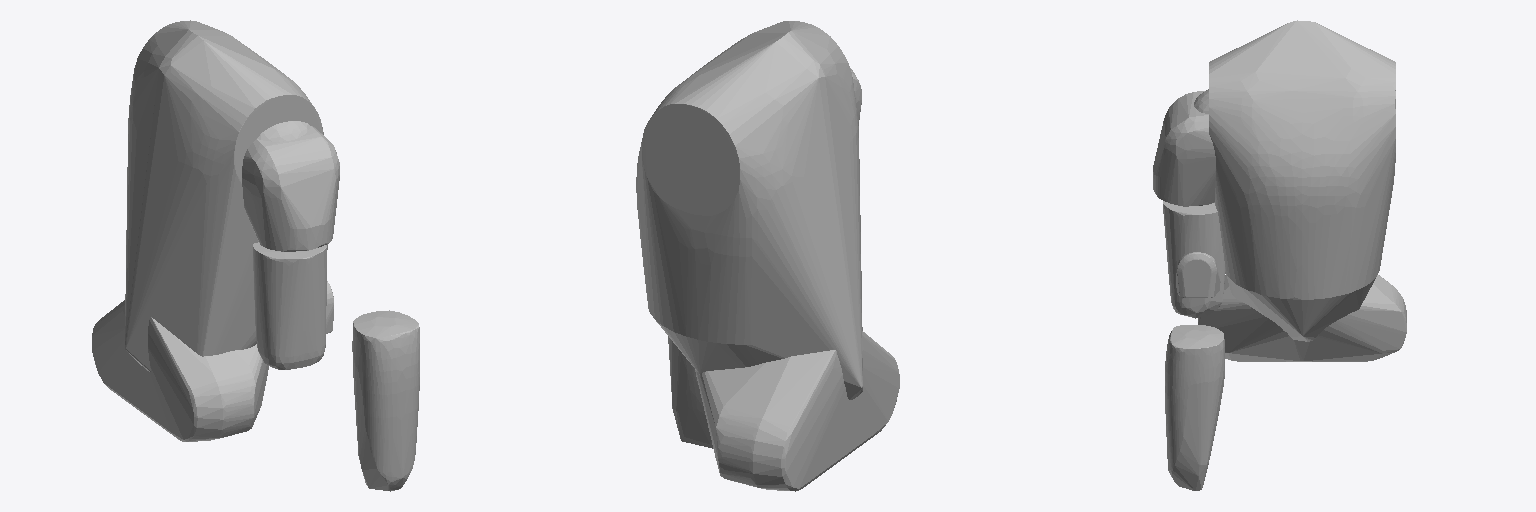
URDF robot description (z2_right_arm):
<?xml version="1.0" encoding="utf-8"?>
<!-- This URDF was automatically created by SolidWorks to URDF Exporter! Originally created by [author] ([email redacted]) 
     Commit Version: 1.6.0-4-g7f85cfe  Build Version: 1.6.7995.38578
     For more information, please see http://wiki.ros.org/sw_urdf_exporter -->
<robot
  name="z2_right_arm">
  <link
    name="pelvis">
    <inertial>
      <origin
        xyz="0.0001 0 0.0044"
        rpy="0 0 0" />
      <mass
        value="3.4083" />
      <inertia
        ixx="0.0095"
        ixy="0"
        ixz="0"
        iyy="0.0056"
        iyz="0"
        izz="0.0094" />
    </inertial>
    <visual>
      <origin
        xyz="0 0 0"
        rpy="0 0 0" />
      <geometry>
        <mesh
          filename="package://meshes/pelvis.STL" />
      </geometry>
      <material
        name="">
        <color
          rgba="0.75294 0.75294 0.75294 1" />
      </material>
    </visual>

  </link>
  <!-- ###################################################################-->  
  <!-- ###########################  waist ################################-->  
  <!-- ###################################################################-->  
  <link
    name="link_wy">
    <inertial>
      <origin
        xyz="0.0061 0.0003 0.1879"
        rpy="0 0 0" />
      <mass
        value="9.8779" />
      <inertia
        ixx="0.1556"
        ixy="0"
        ixz="-0.0015"
        iyy="0.1368"
        iyz="0"
        izz="0.0457" />
    </inertial>
    <visual>
      <origin
        xyz="0 0 0"
        rpy="0 0 0" />
      <geometry>
        <mesh
          filename="package://meshes/link_wy.STL" />
      </geometry>
      <material
        name="">
        <color
          rgba="0.75294 0.75294 0.75294 1" />
      </material>
    </visual>
  </link>
  <joint
    name="joint_wy"
    type="fixed">
    <origin
      xyz="0 0 0.0619"
      rpy="0 0 0" />
    <parent
      link="pelvis" />
    <child
      link="link_wy" />
    <axis
      xyz="0 0 1" />
    <limit
      lower="-2.79"
      upper="2.79"
      effort="120"
      velocity="20" />
  </joint>  
  <!-- ###################################################################-->  
  <!-- ###########################  r_arm ################################-->  
  <!-- ###################################################################-->  
  <link
    name="link_ra1">
    <inertial>
      <origin
        xyz="0.0032 -0.0422 -0.0117"
        rpy="0 0 0" />
      <mass
        value="0.8976" />
      <inertia
        ixx="0.001"
        ixy="0"
        ixz="0"
        iyy="0.0007"
        iyz="-0.0001"
        izz="0.0009" />
    </inertial>
    <visual>
      <origin
        xyz="0 0 0"
        rpy="0 0 0" />
      <geometry>
        <mesh
          filename="package://meshes/link_ra1.STL" />
      </geometry>
      <material
        name="">
        <color
          rgba="0.75294 0.75294 0.75294 1" />
      </material>
    </visual>
  </link>
  <joint
    name="joint_ra1"
    type="revolute">
    <origin
      xyz="0 -0.11963 0.3208"
      rpy="0 0 0" />
    <parent
      link="link_wy" />
    <child
      link="link_ra1" />
    <axis
      xyz="0 0.99255 -0.12187" />
    <limit
      lower="-2.88"
      upper="2.88"
      effort="50"
      velocity="14" />
  </joint>
  <link
    name="link_ra2">
    <inertial>
      <origin
        xyz="-0.0005 -0.0016 -0.0678"
        rpy="0 0 0" />
      <mass
        value="0.7868" />
      <inertia
        ixx="0.0012"
        ixy="0"
        ixz="0"
        iyy="0.0013"
        iyz="0"
        izz="0.0007" />
    </inertial>
    <visual>
      <origin
        xyz="0 0 0"
        rpy="0 0 0" />
      <geometry>
        <mesh
          filename="package://meshes/link_ra2.STL" />
      </geometry>
      <material
        name="">
        <color
          rgba="0.75294 0.75294 0.75294 1" />
      </material>
    </visual>
  </link>
  <joint
    name="joint_ra2"
    type="revolute">
    <origin
      xyz="0 -0.047187 -0.013786"
      rpy="0 0 0" />
    <parent
      link="link_ra1" />
    <child
      link="link_ra2" />
    <axis
      xyz="1 0 0" />
    <limit
      lower="-2.2515"
      upper="0.175"
      effort="50"
      velocity="14" />
  </joint>
  <link
    name="link_ra3">
    <inertial>
      <origin
        xyz="0.0035415 0.0007384 -0.044591"
        rpy="0 0 0" />
      <mass
        value="0.3593" />
      <inertia
        ixx="0.0009"
        ixy="0"
        ixz="0.0001"
        iyy="0.0008"
        iyz="0"
        izz="0.0005" />
    </inertial>
    <visual>
      <origin
        xyz="0 0 0"
        rpy="0 0 0" />
      <geometry>
        <mesh
          filename="package://meshes/link_ra3.STL" />
      </geometry>
      <material
        name="">
        <color
          rgba="0.75294 0.75294 0.75294 1" />
      </material>
    </visual>
  </link>
  <joint
    name="joint_ra3"
    type="revolute">
    <origin
      xyz="0 0 -0.1171"
      rpy="0 0 0" />
    <parent
      link="link_ra2" />
    <child
      link="link_ra3" />
    <axis
      xyz="0 0 1" />
    <limit
      lower="-2.618"
      upper="2.618"
      effort="50"
      velocity="14" />
  </joint>
  <link
    name="link_ra4">
    <inertial>
      <origin
        xyz="0.0447 0.0015 -0.0087"
        rpy="0 0 0" />
      <mass
        value="1.48" />
      <inertia
        ixx="0.0012"
        ixy="0.0001"
        ixz="0.0006"
        iyy="0.0046"
        iyz="0"
        izz="0.0044" />
    </inertial>
    <visual>
      <origin
        xyz="0 0 0"
        rpy="0 0 0" />
      <geometry>
        <mesh
          filename="package://meshes/link_ra4.STL" />
      </geometry>
      <material
        name="">
        <color
          rgba="0.75294 0.75294 0.75294 1" />
      </material>
    </visual>
  </link>
  <joint
    name="joint_ra4"
    type="revolute">
    <origin
      xyz="0.01924 0 -0.0979"
      rpy="0 0 0" />
    <parent
      link="link_ra3" />
    <child
      link="link_ra4" />
    <axis
      xyz="0 1 0" />
    <limit
      lower="-0.96"
      upper="2.0944"
      effort="50"
      velocity="14" />
  </joint>
  <link
    name="link_ra5">
    <inertial>
      <origin
        xyz="0.025808 -0.0001686 0.00074876"
        rpy="0 0 0" />
      <mass
        value="0.27279" />
      <inertia
        ixx="0.0002"
        ixy="0"
        ixz="0"
        iyy="0.0003"
        iyz="0"
        izz="0.0003" />
    </inertial>
    <visual>
      <origin
        xyz="0 0 0"
        rpy="0 0 0" />
      <geometry>
        <mesh
          filename="package://meshes/link_ra5.STL" />
      </geometry>
      <material
        name="">
        <color
          rgba="0.75294 0.75294 0.75294 1" />
      </material>
    </visual>
  </link>
  <joint
    name="joint_ra5"
    type="revolute">
    <origin
      xyz="0.138 0 -0.017415"
      rpy="0 0 0" />
    <parent
      link="link_ra4" />
    <child
      link="link_ra5" />
    <axis
      xyz="1 0 0" />
    <limit
      lower="-2.618"
      upper="2.618"
      effort="50"
      velocity="14" />
  </joint>
</robot>

--- Facts derived from the render (not from the file) ---
The picture shows the robot from 3 angles, left to right: view 1: azimuth 30°, elevation 25°; view 2: azimuth 150°, elevation 25°; view 3: azimuth 270°, elevation 25°; orthographic projection.
Model z2_right_arm with 7 links and 6 joints (5 revolute, 1 fixed), rooted at pelvis, posed all joints at 0.
Links seen in each view (by area): view 1: link_wy, pelvis, link_ra5, link_ra2, link_ra3, link_ra1; view 2: link_wy, pelvis, link_ra5; view 3: link_wy, pelvis, link_ra5, link_ra2, link_ra3, link_ra4.
Link boxes in pixels (left/top/right/bottom): link_wy: left=125, top=20, right=323, bottom=371; pelvis: left=92, top=300, right=268, bottom=441; link_ra5: left=352, top=310, right=419, bottom=491; link_ra2: left=242, top=126, right=339, bottom=251; link_ra3: left=253, top=242, right=327, bottom=369; link_ra1: left=257, top=121, right=309, bottom=141; link_wy: left=636, top=21, right=862, bottom=399; pelvis: left=695, top=331, right=899, bottom=491; link_ra5: left=668, top=336, right=712, bottom=448; link_wy: left=1209, top=20, right=1395, bottom=341; pelvis: left=1198, top=275, right=1406, bottom=361; link_ra5: left=1165, top=325, right=1224, bottom=490; link_ra2: left=1153, top=91, right=1215, bottom=206; link_ra3: left=1163, top=201, right=1225, bottom=318; link_ra4: left=1176, top=252, right=1220, bottom=297.
Size in the robot's own frame: 0.3839 by 0.4021 by 0.7076 metres.
Meshes: 7 distinct files referenced, 7 mesh visuals loaded (7 binary STL).
